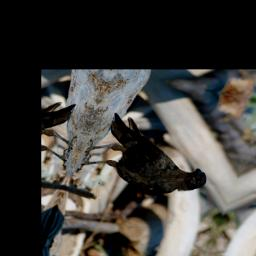Crow: (72, 109, 226, 207)
